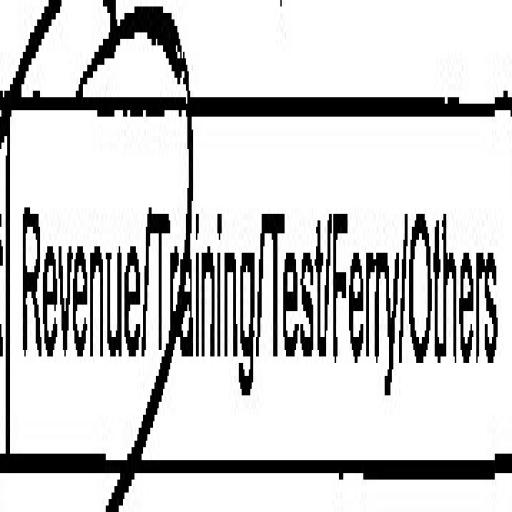check: (2, 0, 149, 512)
